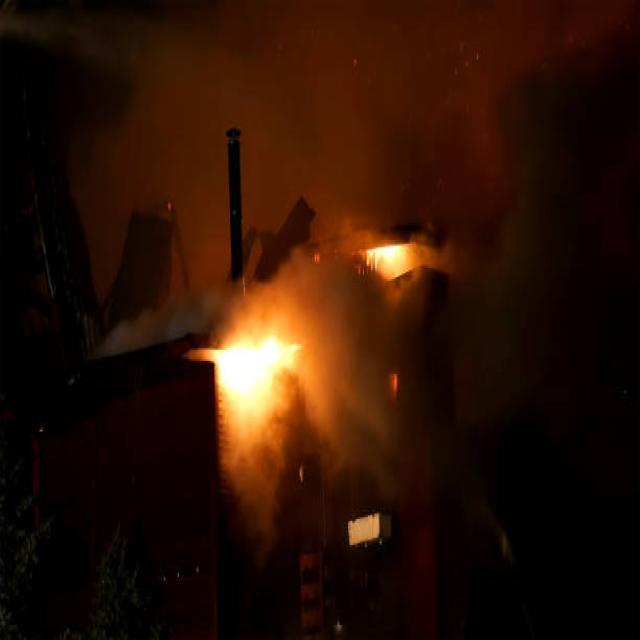Fire: (213, 329, 304, 422), (370, 240, 420, 279)
Smoke: (106, 276, 398, 504)
